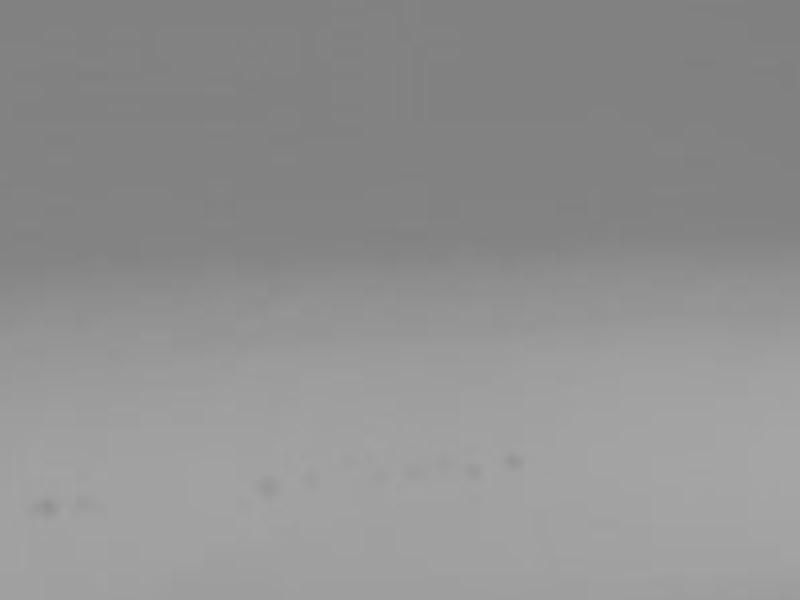defect: (293, 467, 321, 490), (257, 475, 281, 500), (73, 494, 107, 510), (465, 454, 485, 479), (403, 461, 425, 483), (29, 499, 58, 515), (504, 449, 525, 471), (371, 465, 391, 483)
